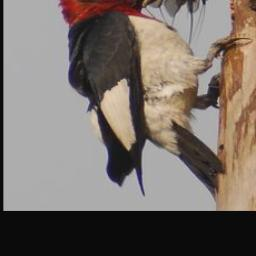Woodpecker: (59, 0, 250, 199)
